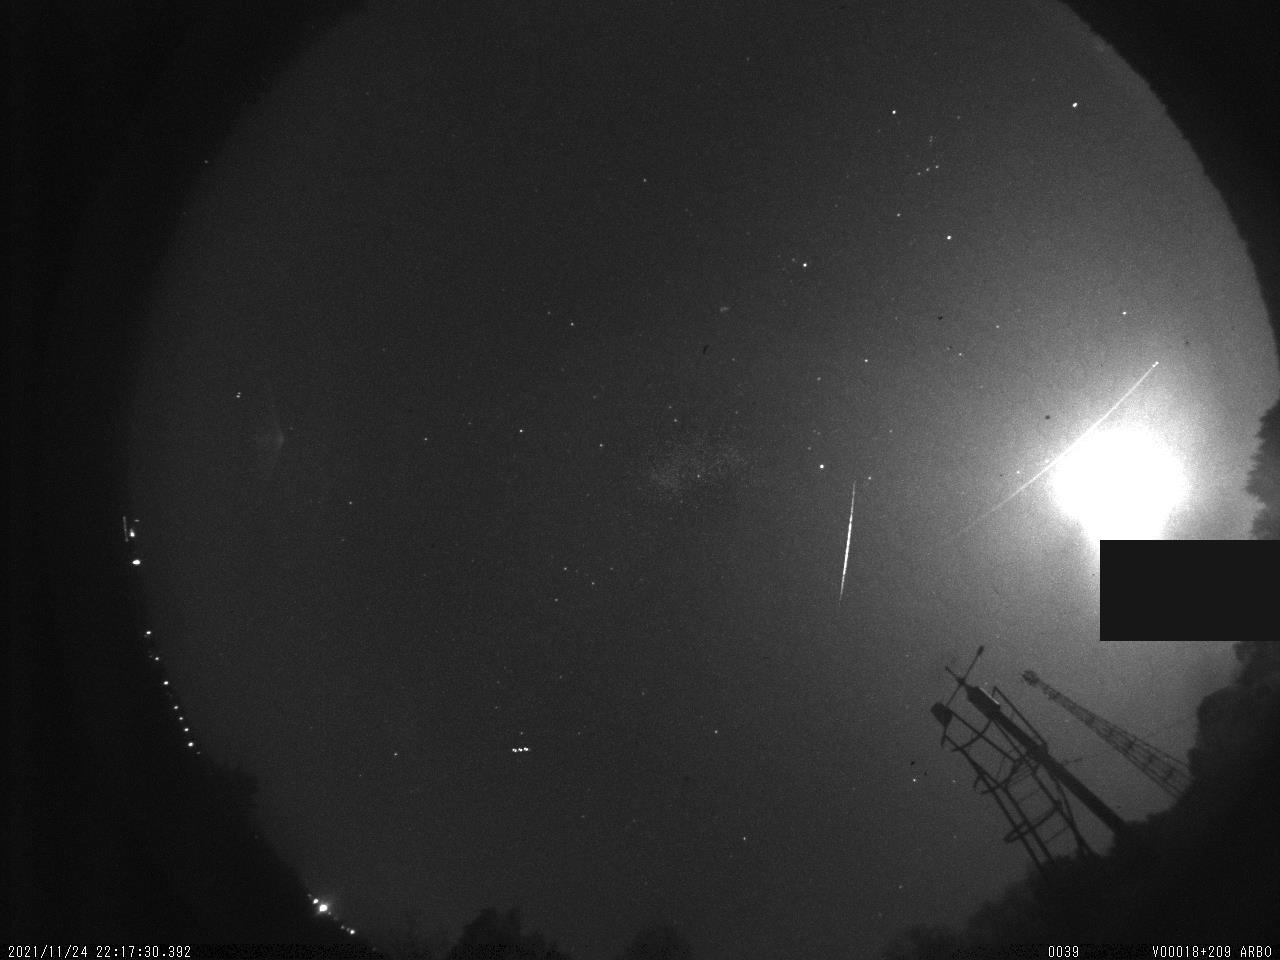meteor: (835, 470, 869, 598)
